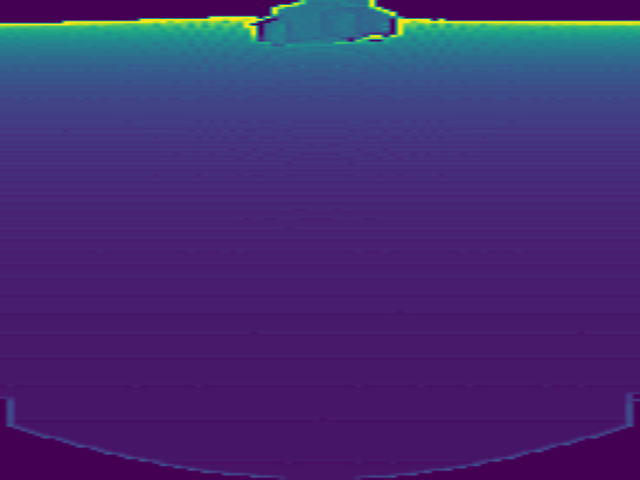car_0027: (252, 1, 403, 48)
